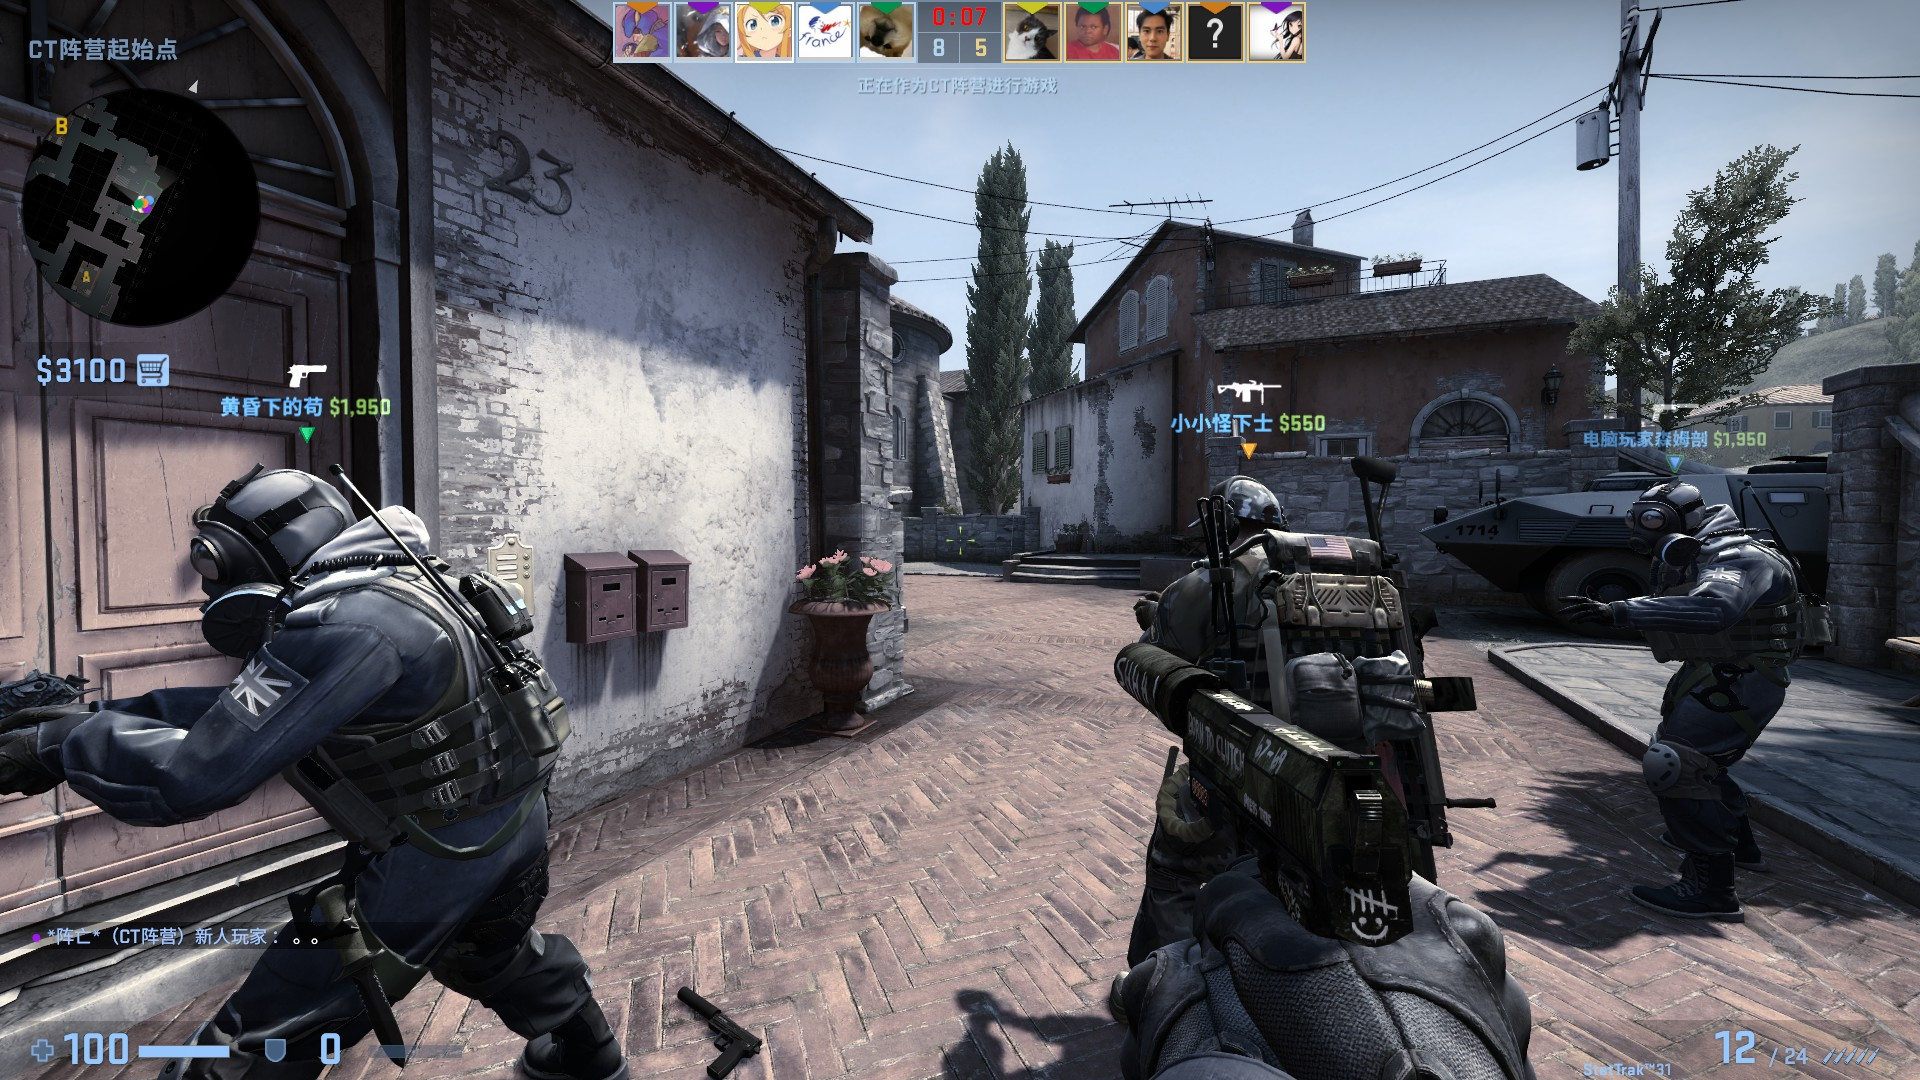head: (188, 460, 359, 614), (1622, 475, 1722, 552), (1190, 475, 1292, 549)
